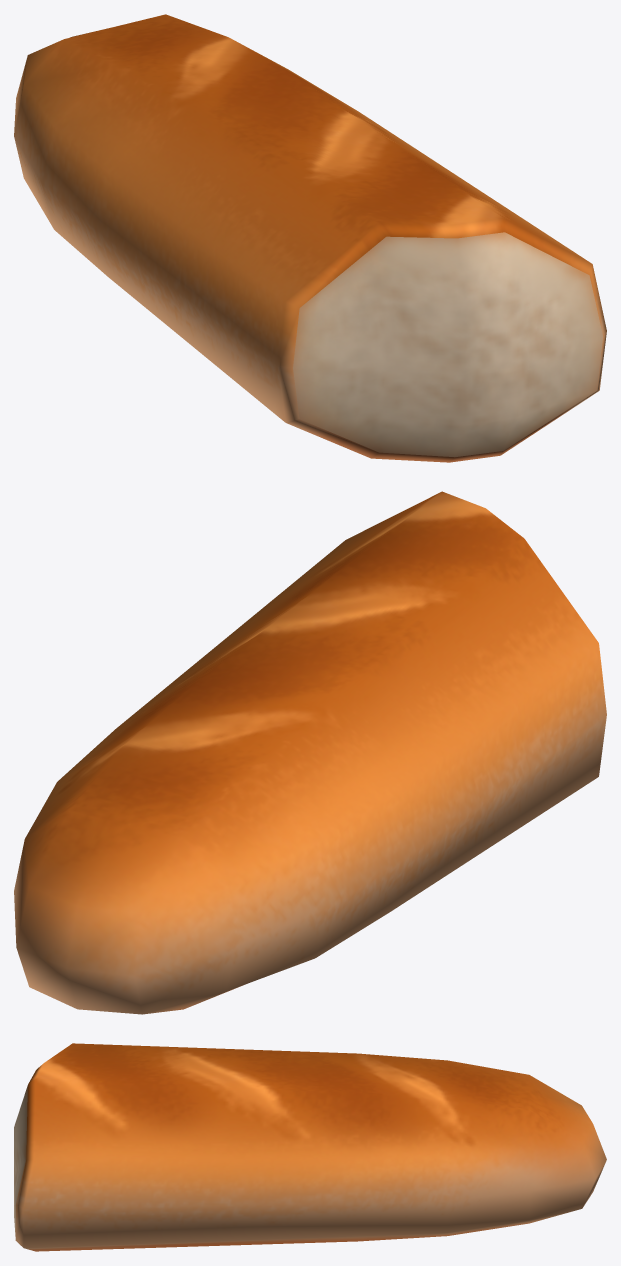
The model's file is French_Broken_0.fbx.
3 views of the same model, one above another, from view 1: azimuth 30°, elevation 25°; view 2: azimuth 150°, elevation 25°; view 3: azimuth 270°, elevation 25° (orthographic). The views are drawn at different scales.
Parts seen in each view (by area): view 1: French_Broken_0; view 2: French_Broken_0; view 3: French_Broken_0.
Boxes of the visible parts, bbox=[...] form: French_Broken_0: bbox=[14, 14, 606, 462]; French_Broken_0: bbox=[14, 491, 606, 1014]; French_Broken_0: bbox=[14, 1043, 606, 1251].
Bounding box in the file's own units: 25.82 × 20.66 × 64.1.
